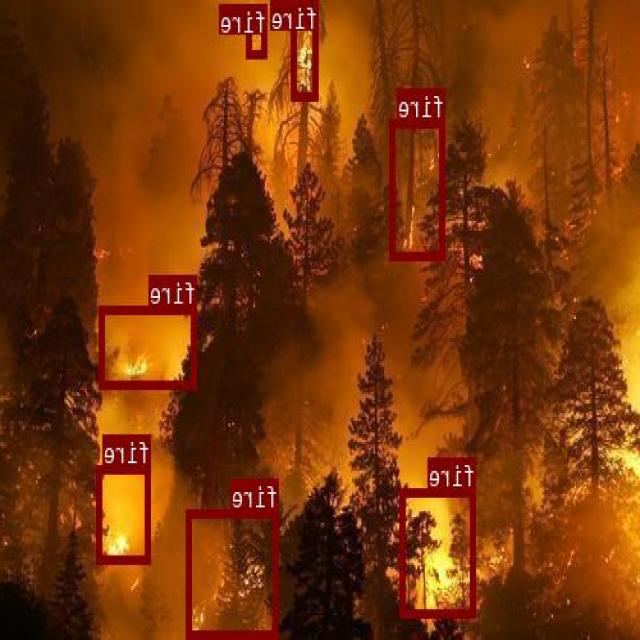fire: (188, 509, 279, 636), (401, 488, 477, 616), (100, 304, 198, 386), (392, 118, 446, 259), (98, 463, 151, 562), (292, 0, 320, 98), (248, 4, 268, 56)
